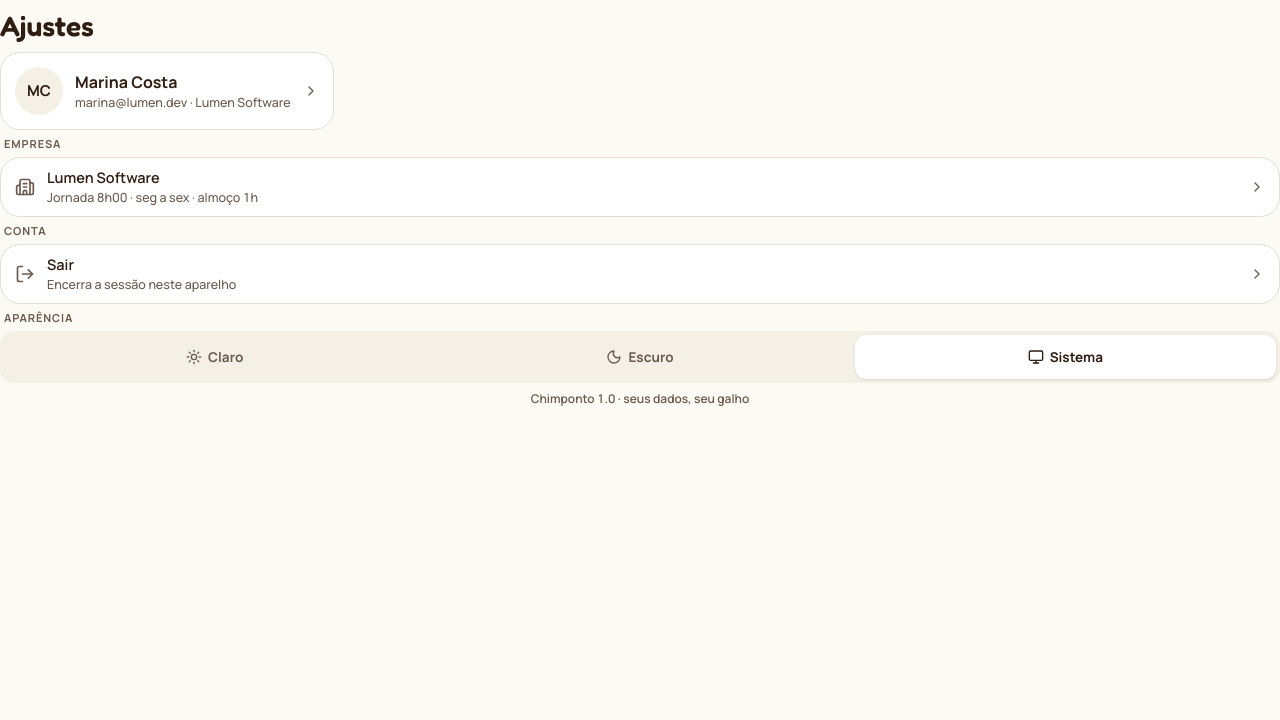
<SettingsScreen> › an empty display name falls back to the e-mail initials
Click the button "MC Marina Costa marina@lumen.dev · Lumen Software".
click(167, 91)  # box [0,52,334,130]
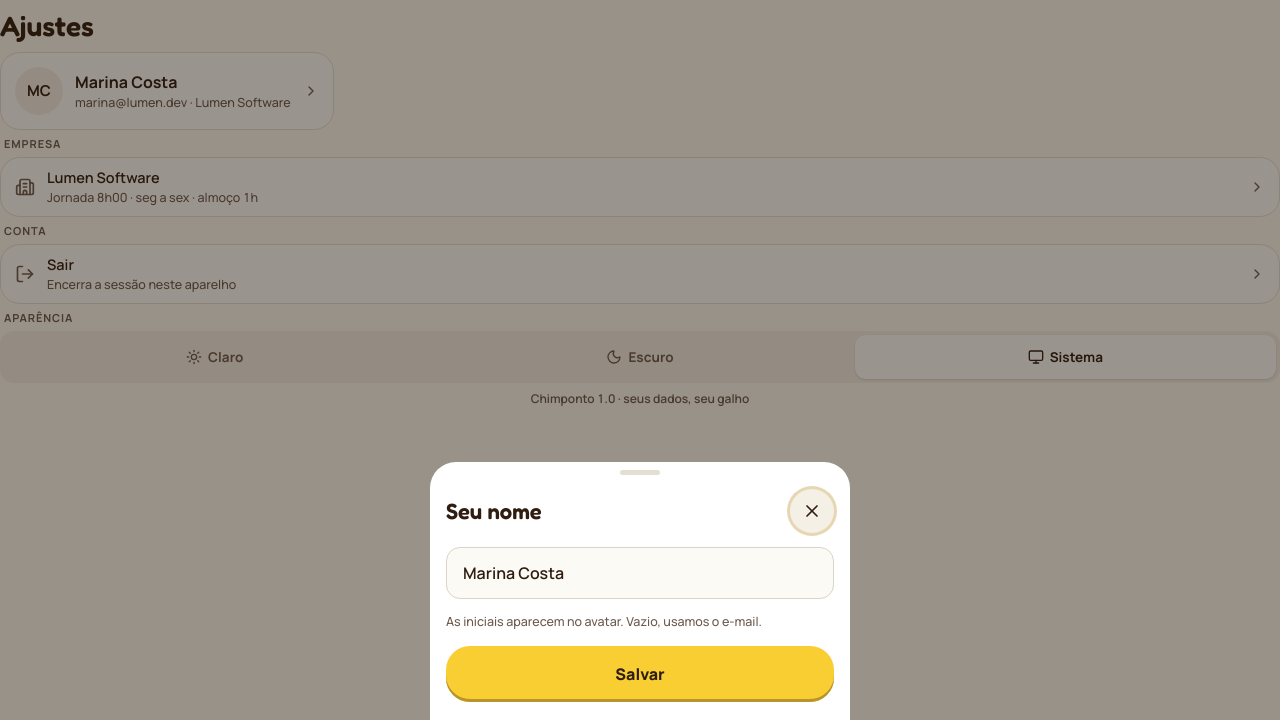
Clear the field named "Nome de exibição" at (640, 573), box [446,547,834,599]
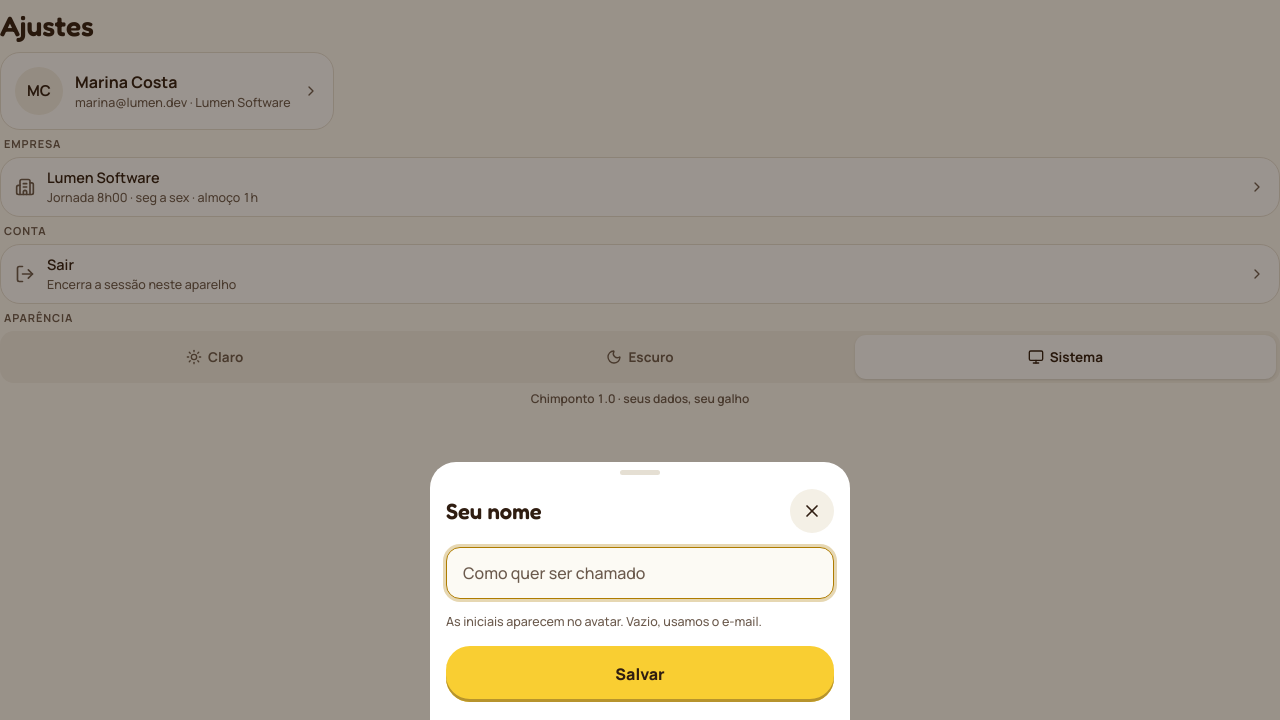
Click the button "Salvar".
click(640, 674)  # box [446,646,834,702]
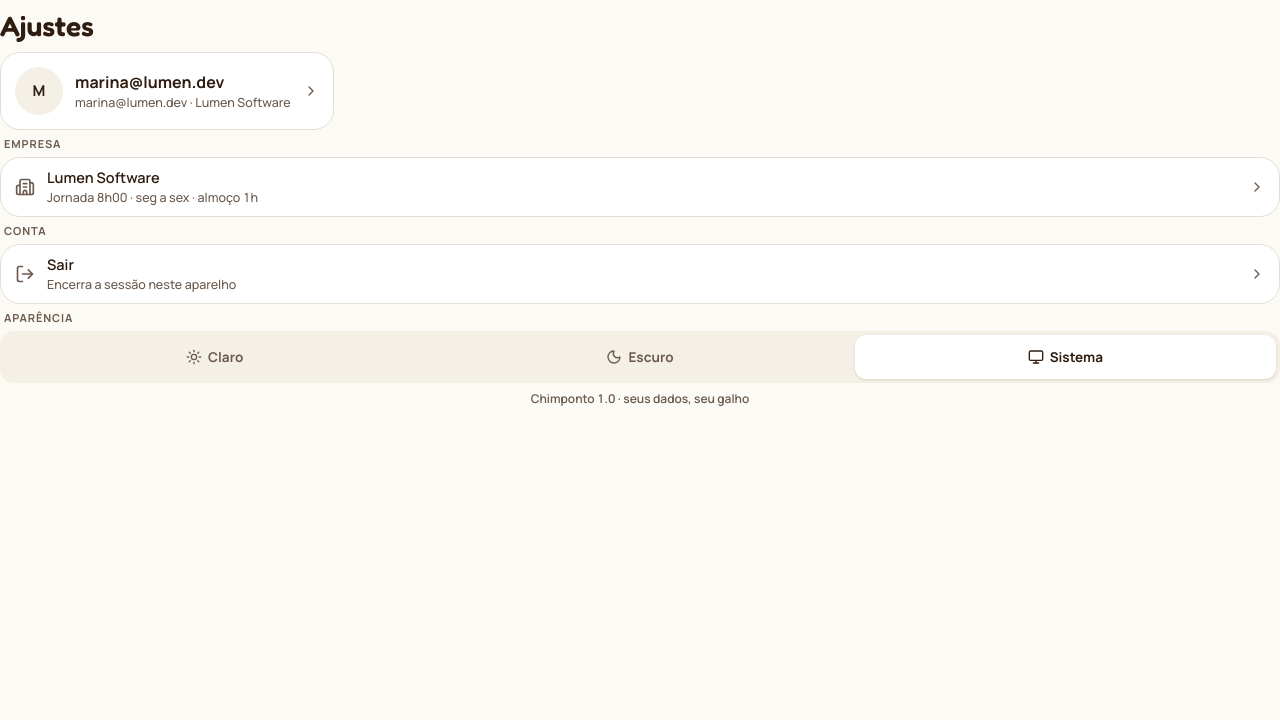
Now the picture named "marina@lumen.dev" reads "M", box [33,80,45,101]
